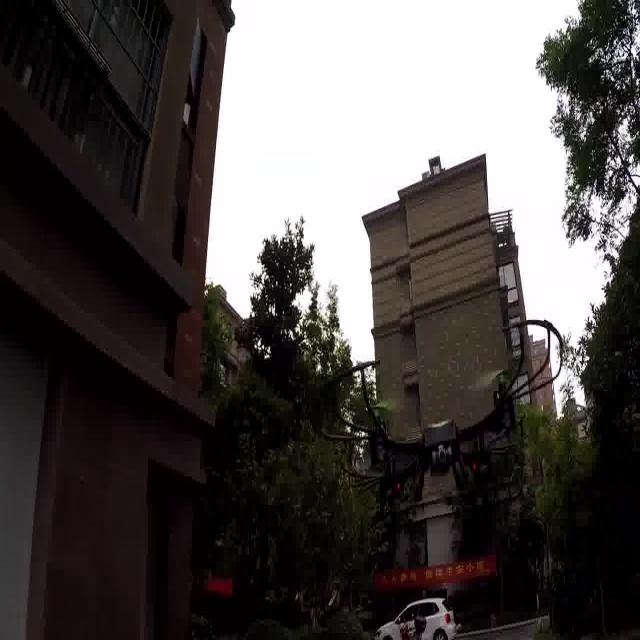drones: (310, 308, 568, 538)
